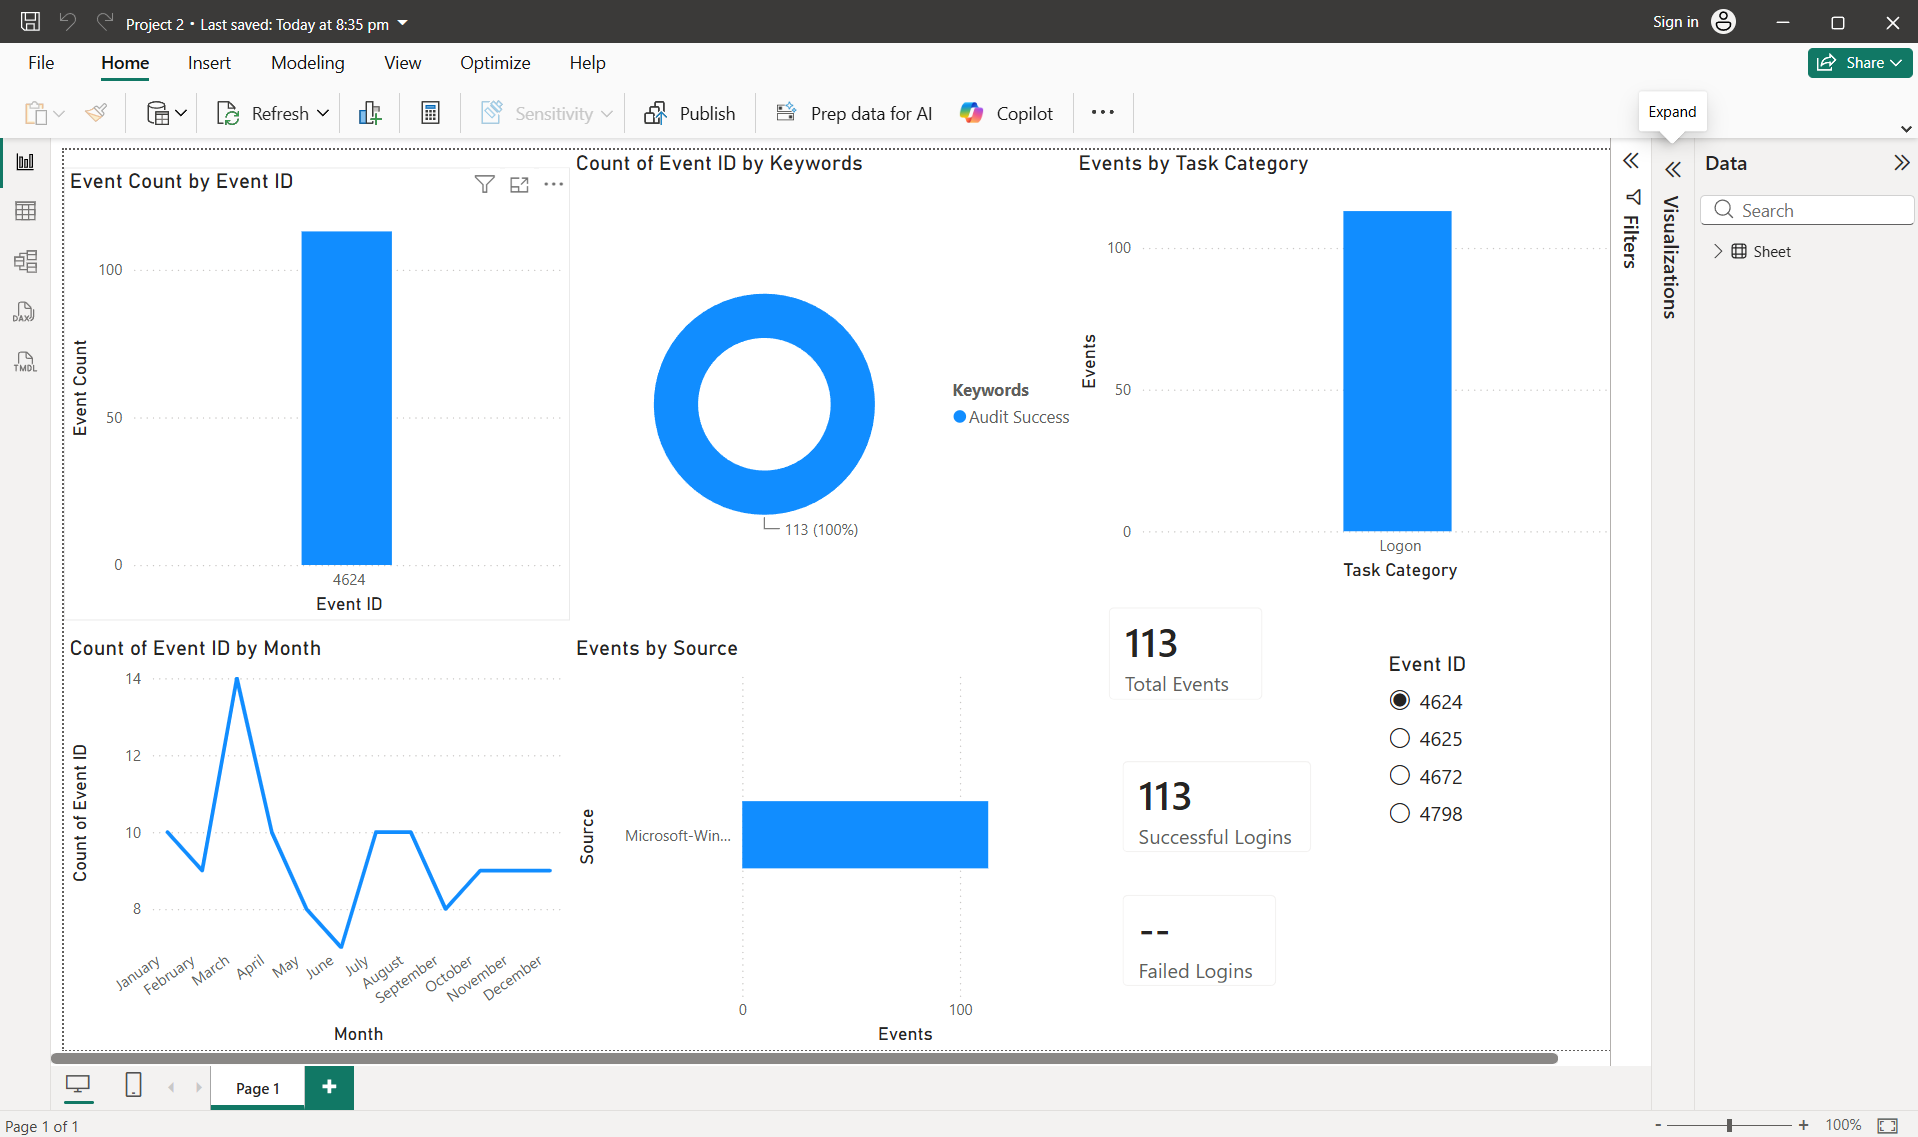

The page's visual inventory and layout, read from the dashboard file:
{"tool":"powerbi","page":{"name":"Page 1","canvas":[1280,720],"ordinal":0},"visuals":[{"type":"clusteredColumnChart","fields":{"Category":["Sheet.Event ID"],"Y":["CountNonNull(Sheet.Event ID)"]},"box":[0,13.7,404.8,362.3],"z":0},{"type":"lineChart","fields":{"Category":["Sheet.Date.Variation.Date Hierarchy.Month"],"Y":["CountNonNull(Sheet.Event ID)"]},"box":[0,388.3,404.8,332.1],"z":1000},{"type":"donutChart","fields":{"Category":["Sheet.Keywords"],"Y":["CountNonNull(Sheet.Event ID)"]},"box":[404.8,0,414.4,388.3],"z":2000},{"type":"barChart","fields":{"Category":["Sheet.Source"],"Y":["CountNonNull(Sheet.Event ID)"]},"box":[404.8,388.3,414.4,332.1],"z":3000},{"type":"lineStackedColumnComboChart","fields":{"Category":["Sheet.Task Category"],"Y":["CountNonNull(Sheet.Event ID)"]},"box":[806.9,0,473.4,348.5],"z":3001},{"type":"cardVisual","fields":{"Data":["CountNonNull(Sheet.Event ID)"]},"box":[819.2,348.5,156.4,108.4],"z":3002},{"type":"cardVisual","fields":{"Data":["CountNonNull(Sheet.Event ID)"]},"box":[830.2,472,185.2,107],"z":3003},{"type":"cardVisual","fields":{"Data":["CountNonNull(Sheet.Event ID)"]},"box":[830.2,579.1,156.4,107],"z":3004},{"type":"listSlicer","fields":{"Values":["Sheet.Event ID"]},"box":[1055.2,400.7,225,319.7],"z":3005}]}

Visuals, with their boxes on the page's 1280x720 design canvas (x1, y1, x2, y2). These are canvas units, not pixel positions in the 1918x1137 screenshot, which may show the page scaled, cropped or inside an application window:
clusteredColumnChart - Sheet.Event ID x CountNonNull(Sheet.Event ID): {"left": 0, "top": 14, "right": 405, "bottom": 376}
lineChart - Sheet.Date.Variation.Date Hierarchy.Month x CountNonNull(Sheet.Event ID): {"left": 0, "top": 388, "right": 405, "bottom": 720}
donutChart - Sheet.Keywords x CountNonNull(Sheet.Event ID): {"left": 405, "top": 0, "right": 819, "bottom": 388}
barChart - Sheet.Source x CountNonNull(Sheet.Event ID): {"left": 405, "top": 388, "right": 819, "bottom": 720}
lineStackedColumnComboChart - Sheet.Task Category x CountNonNull(Sheet.Event ID): {"left": 807, "top": 0, "right": 1280, "bottom": 348}
cardVisual - CountNonNull(Sheet.Event ID): {"left": 819, "top": 348, "right": 976, "bottom": 457}
cardVisual - CountNonNull(Sheet.Event ID): {"left": 830, "top": 472, "right": 1015, "bottom": 579}
cardVisual - CountNonNull(Sheet.Event ID): {"left": 830, "top": 579, "right": 987, "bottom": 686}
listSlicer - Sheet.Event ID: {"left": 1055, "top": 401, "right": 1280, "bottom": 720}
